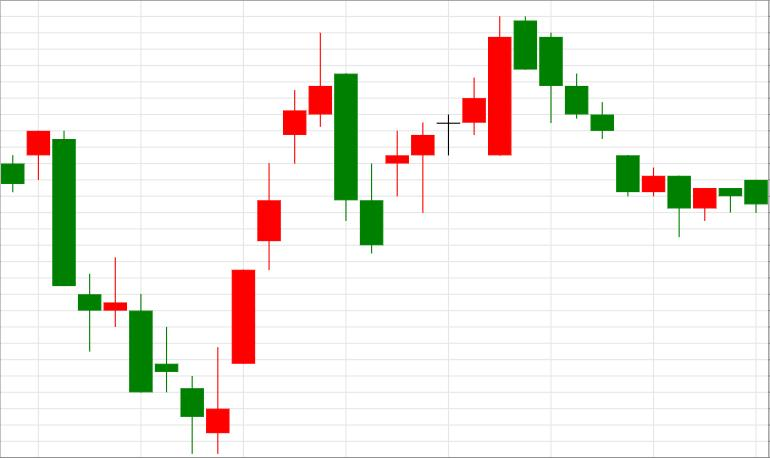inverse_hammer_rise: (52, 131, 230, 454)
shooting_star_fall: (206, 31, 332, 452)
